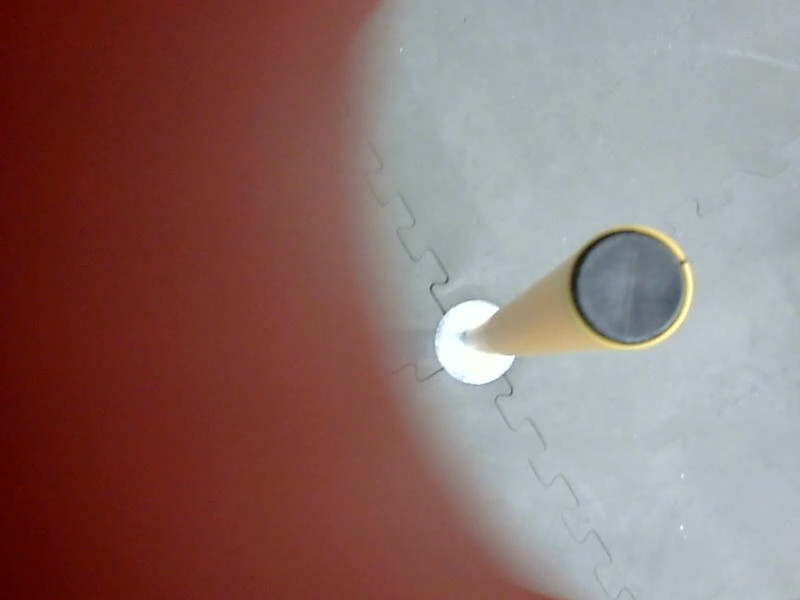tip: (566, 221, 695, 355)
